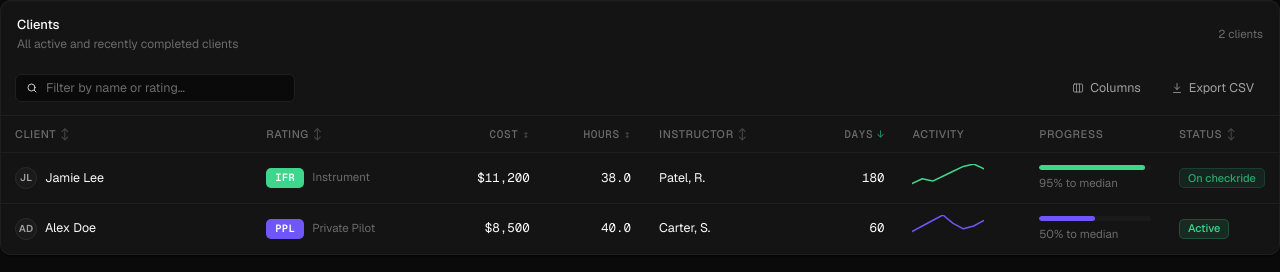
Test: search filters by name
Step 1. Type "Alex" into the field with placeholder "Filter by name or rating…" → (164,88), box 44,78 -> 284,97
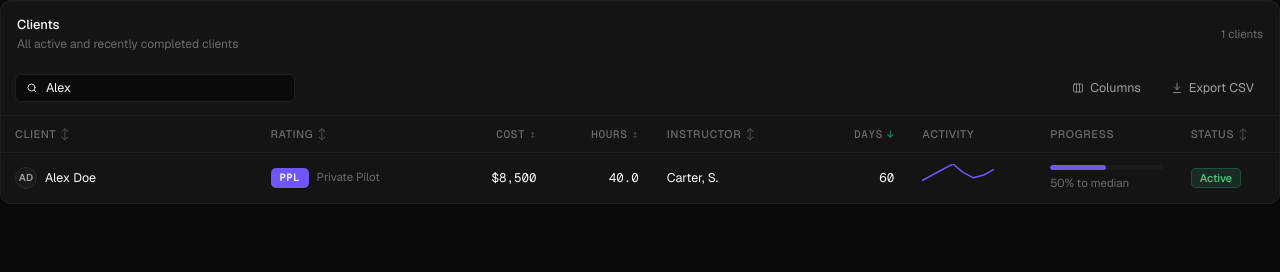
Expected: the text "Alex Doe" is shown, 45,168 -> 96,187
Expected: the text "Jamie Lee" is gone
